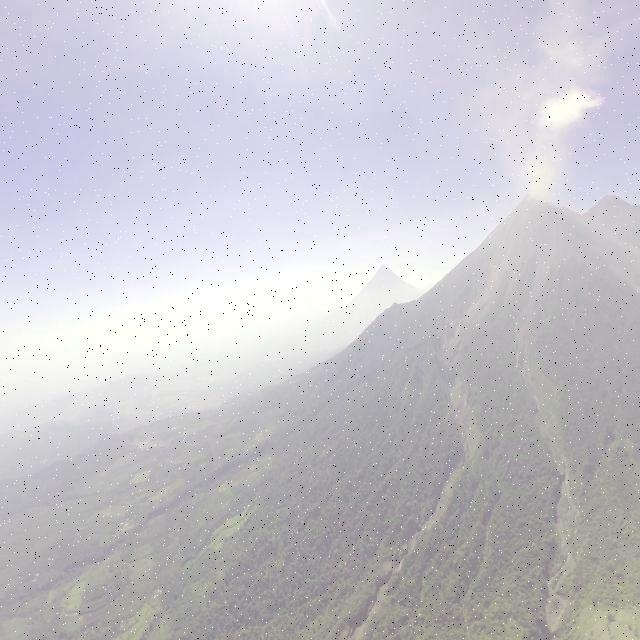Plume: (516, 73, 604, 203), (532, 78, 604, 140)
Summit: (504, 182, 574, 220)
